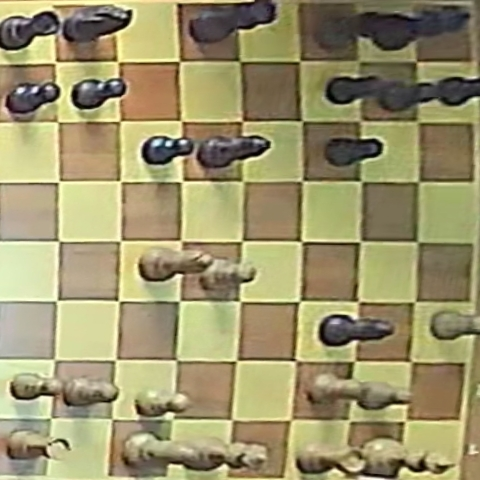black-bishop: (197, 135, 270, 168), (320, 314, 394, 346)
black-king: (370, 4, 472, 51)
black-knight: (64, 4, 131, 43)
black-pawn: (5, 81, 60, 118), (326, 72, 382, 108), (379, 79, 439, 111), (324, 137, 383, 167), (72, 78, 127, 110), (143, 136, 195, 165), (437, 74, 480, 108)
black-queen: (190, 1, 276, 43)
black-rook: (316, 7, 380, 51), (1, 10, 60, 51)
white-bishop: (123, 431, 197, 471), (140, 246, 214, 281)
white-king: (362, 437, 456, 477)
white-pawn: (198, 257, 256, 290), (63, 376, 120, 407), (308, 373, 362, 405), (355, 381, 411, 409), (135, 388, 190, 416), (10, 372, 62, 400), (432, 310, 480, 339)
white-queen: (180, 436, 269, 472)
white-rook: (298, 441, 368, 475), (7, 431, 73, 464)
